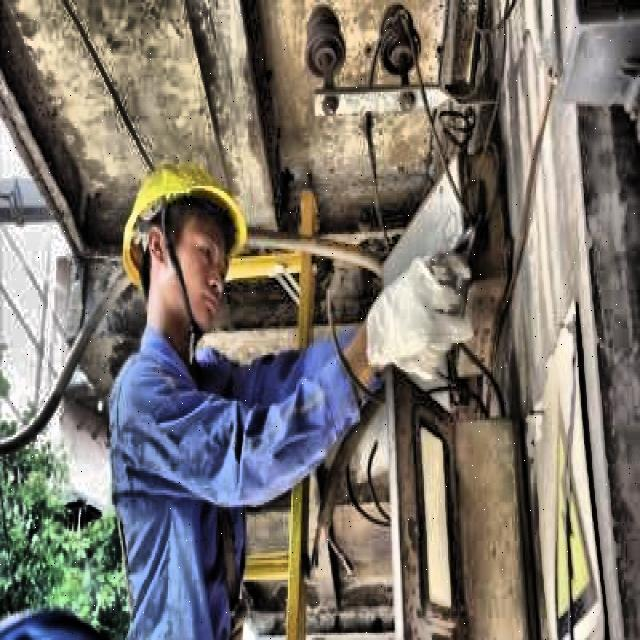helmet: (123, 145, 253, 343)
